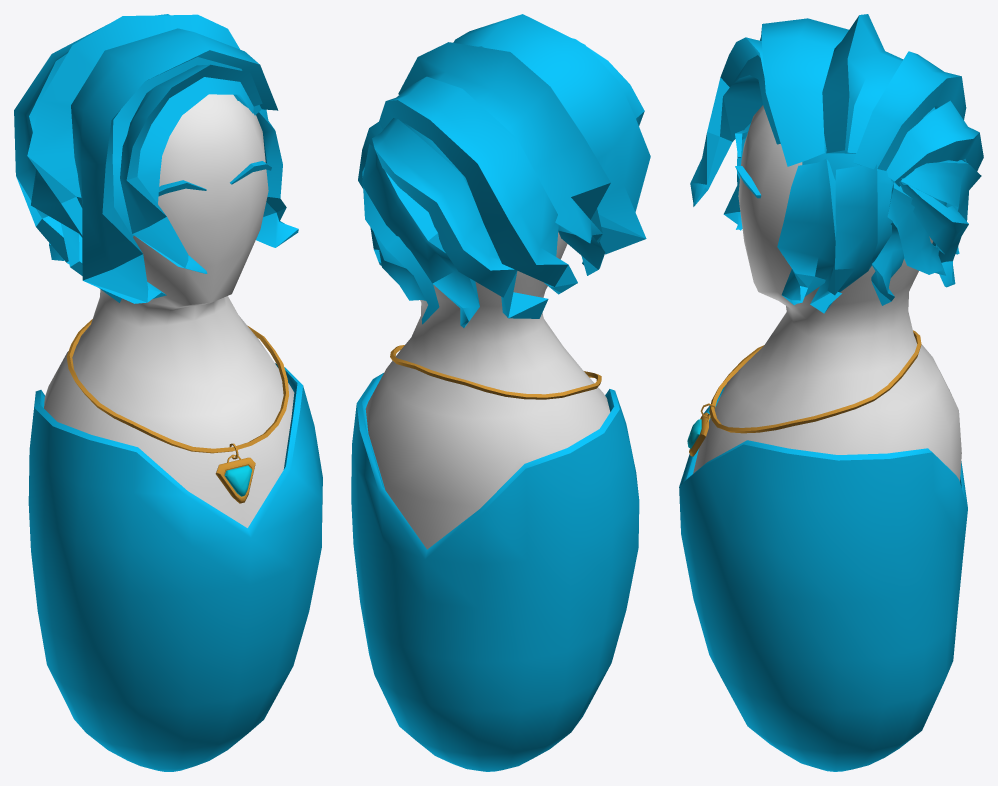
The model's file is CharmQuark.fbx.
3 renders of one model, left to right at view 1: azimuth 30°, elevation 25°; view 2: azimuth 150°, elevation 25°; view 3: azimuth 270°, elevation 25°, orthographic. The views are drawn at different scales.
Visible parts, largest first — view 1: CHARM QUARK; view 2: CHARM QUARK; view 3: CHARM QUARK.
Part boxes in pixels (x1,y1,x2,y2): CHARM QUARK: [14, 14, 322, 771]; CHARM QUARK: [351, 14, 650, 771]; CHARM QUARK: [679, 14, 983, 771].
Bounding box in the file's own units: 208 × 571 × 215.
